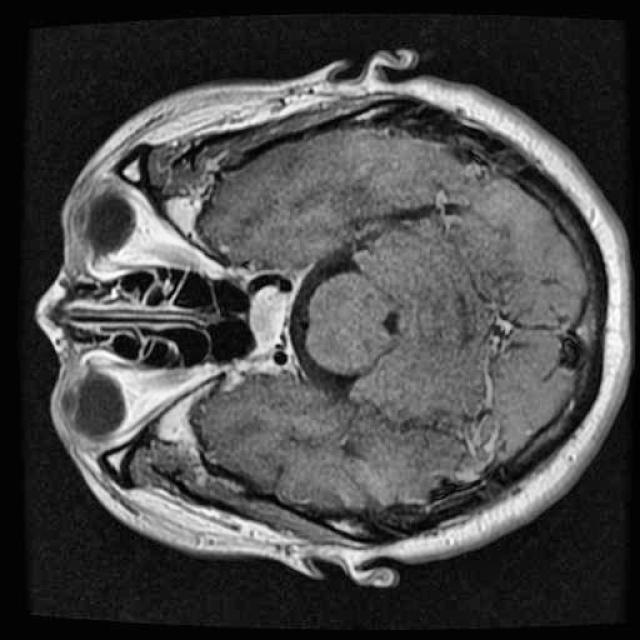Tumor: (239, 275, 292, 371)
